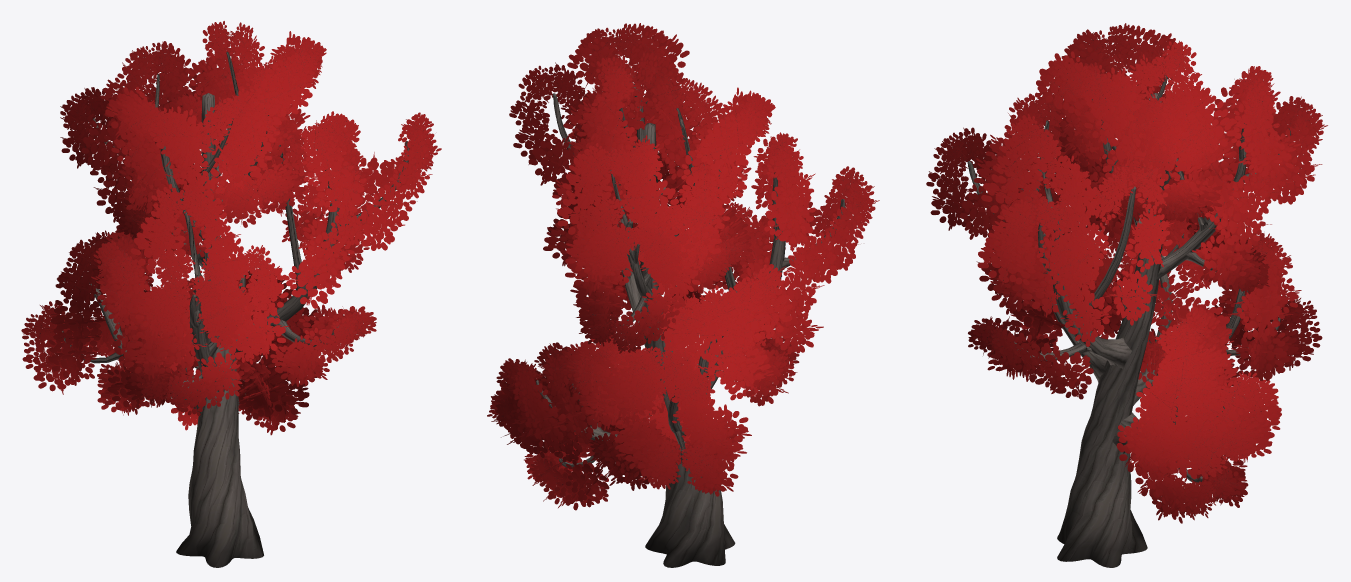
The model's file is TwistedTree_3.glb.
3 views of the same model, side by side, from view 1: azimuth 30°, elevation 25°; view 2: azimuth 150°, elevation 25°; view 3: azimuth 270°, elevation 25° (orthographic). The views are drawn at different scales.
Visible parts, largest first — view 1: TwistedTree_3; view 2: TwistedTree_3; view 3: TwistedTree_3.
Boxes of the visible parts, x1=… form: TwistedTree_3: x1=21, y1=21, x2=441, y2=567; TwistedTree_3: x1=487, y1=23, x2=879, y2=567; TwistedTree_3: x1=926, y1=23, x2=1327, y2=567.
Size of the model in its own units: 11.36 by 16.07 by 11.51.
Materials: 2 (2 with a texture image).
